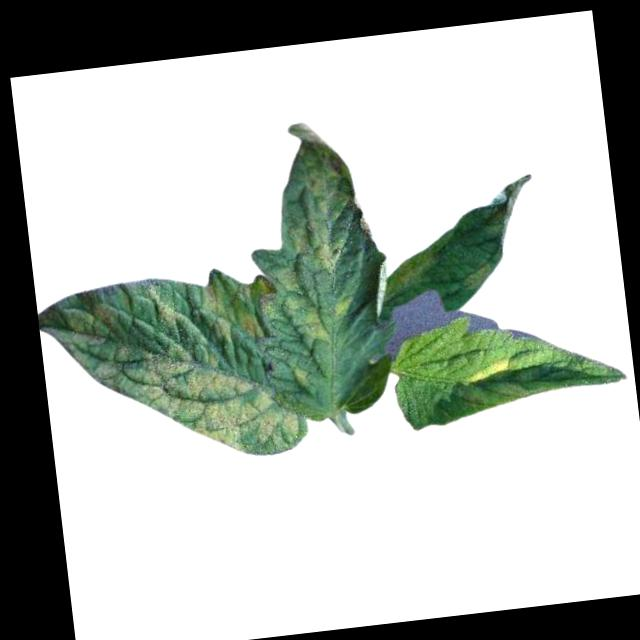Leaf_Mold: (37, 266, 310, 480), (273, 116, 366, 278), (295, 292, 355, 344), (462, 355, 511, 386), (462, 254, 502, 290)
